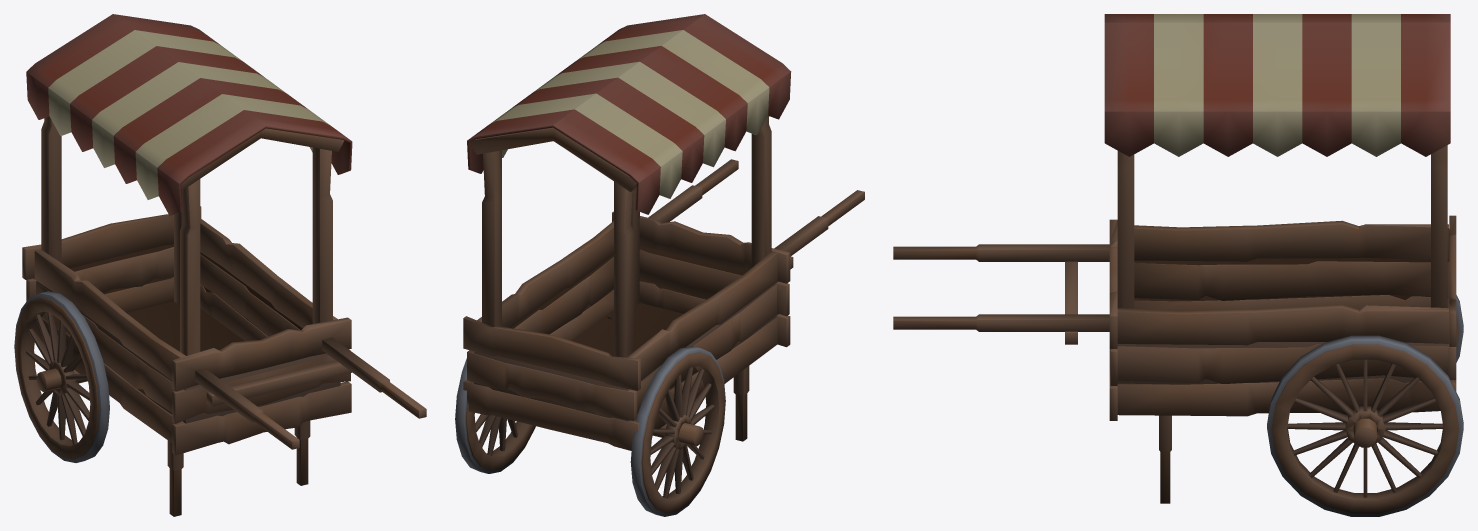
The model's file is prop_cart.glb.
3 renders of one model, left to right at view 1: azimuth 30°, elevation 25°; view 2: azimuth 150°, elevation 25°; view 3: azimuth 270°, elevation 25°, orthographic. The views are drawn at different scales.
Visible parts, largest first — view 1: prop_cart; view 2: prop_cart; view 3: prop_cart.
Boxes of the visible parts, bbox=[...] form: prop_cart: bbox=[14, 14, 426, 516]; prop_cart: bbox=[455, 14, 864, 516]; prop_cart: bbox=[893, 14, 1463, 516].
Bounding box in the file's own units: 0.462 × 0.7961 × 0.9274.
